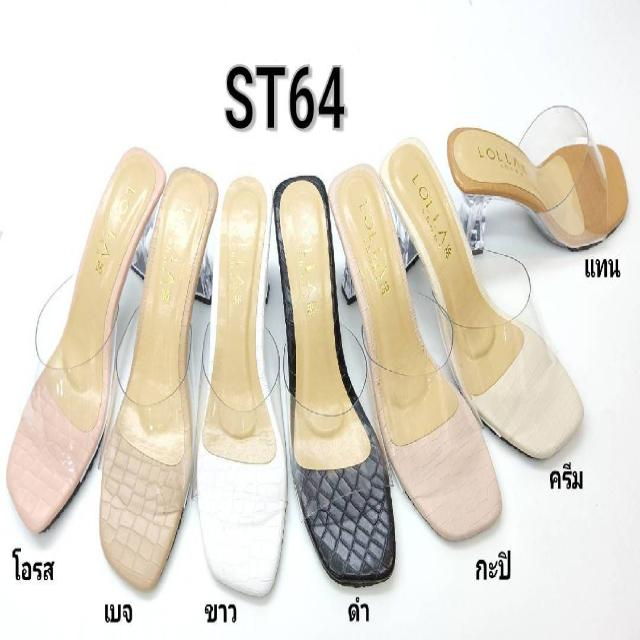bej: (98, 167, 216, 581)
black: (272, 176, 394, 589)
cream: (386, 140, 582, 458)
kapi: (331, 170, 502, 541)
orot: (7, 140, 160, 530)
tan: (448, 121, 624, 249)
white: (197, 178, 283, 600)
